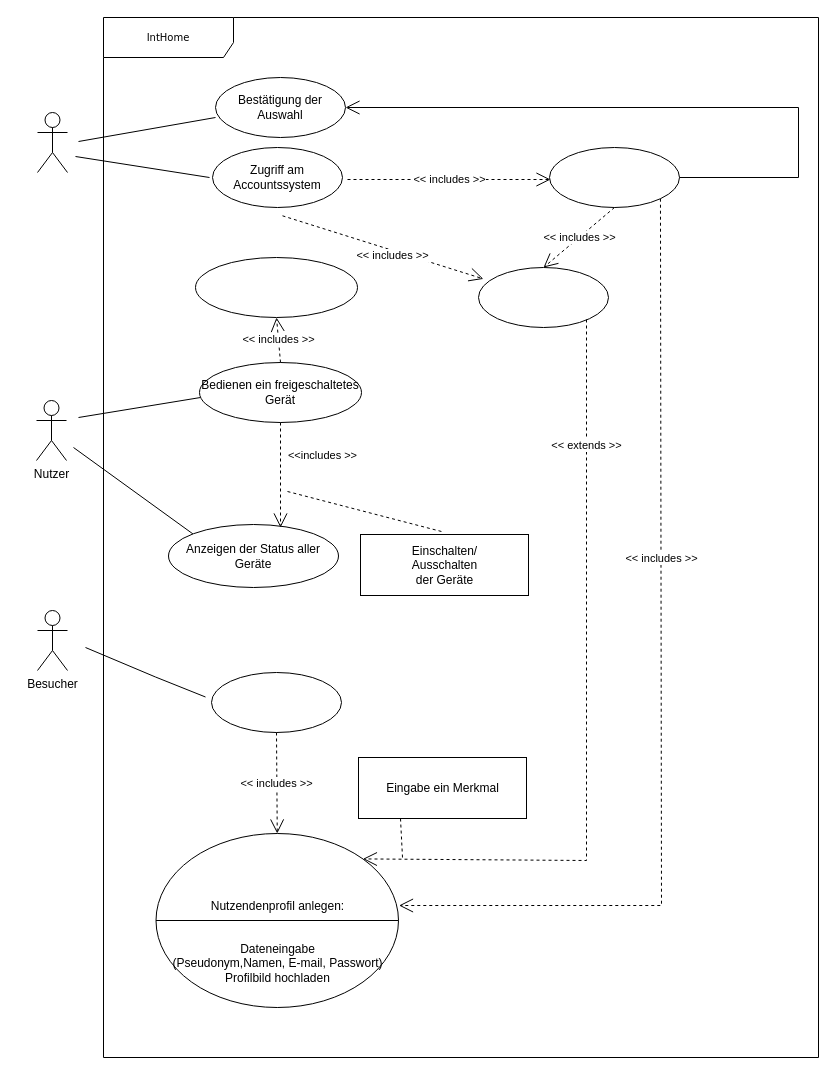
The diagram is 836 pixels wide and 1075 high, and some of its shapes have lost their labels. The box of each missing label's shape, as (x1, y1, x2, y2) in pixels:
Account erstellen: (210, 672, 342, 732)
Administrator: (36, 112, 68, 172)
Anwendung einer Filter: (478, 266, 608, 328)
Auswahl ein Accountssystem: (548, 146, 680, 208)
Übermitteln des Geräteszustands: (194, 256, 358, 318)
